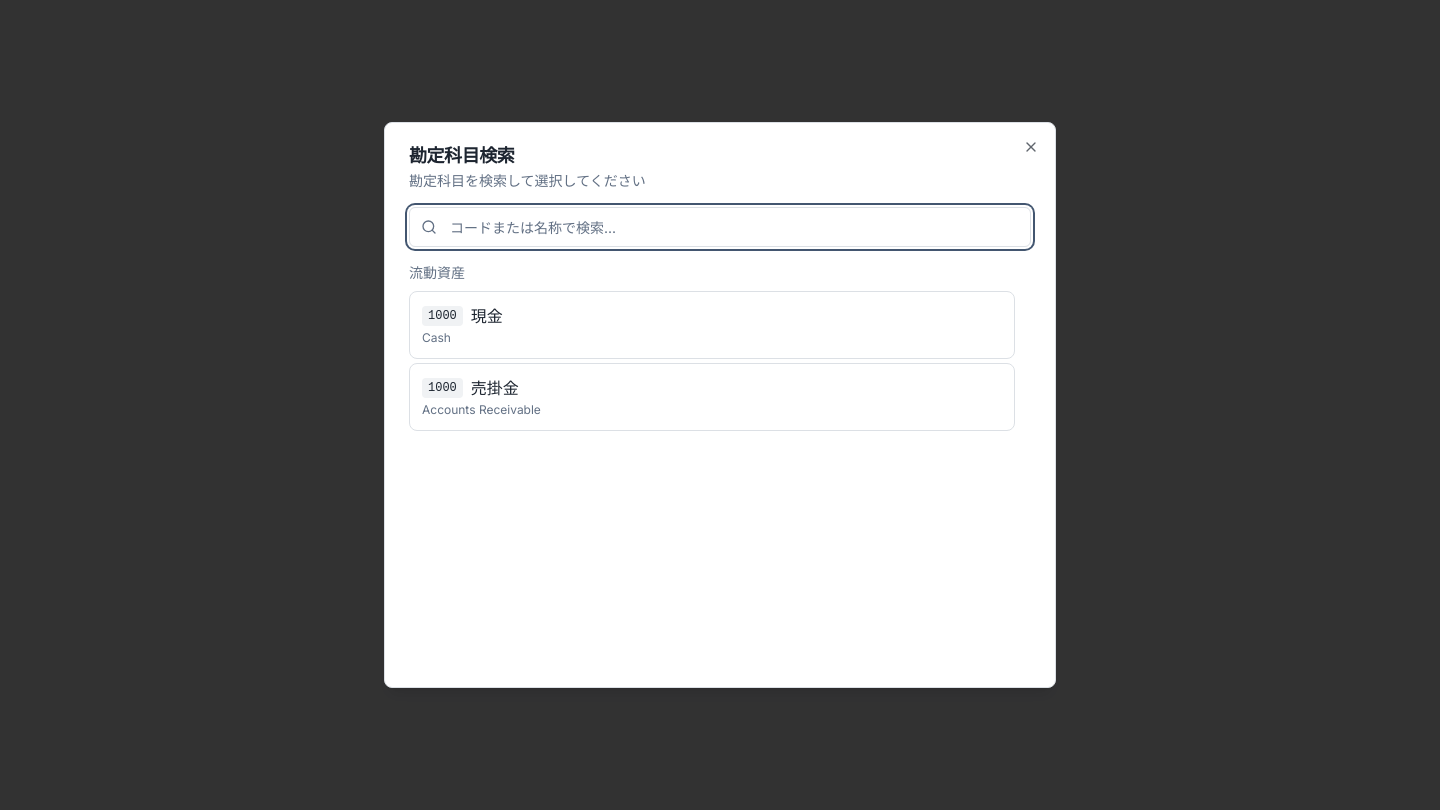
Test: conversion/account-search-dialog — search filtering › filters case-insensitively by English name
Type "receivable" into the field with placeholder "コードまたは名称で検索..." at (720, 227), box left=409, top=207, right=1031, bottom=247
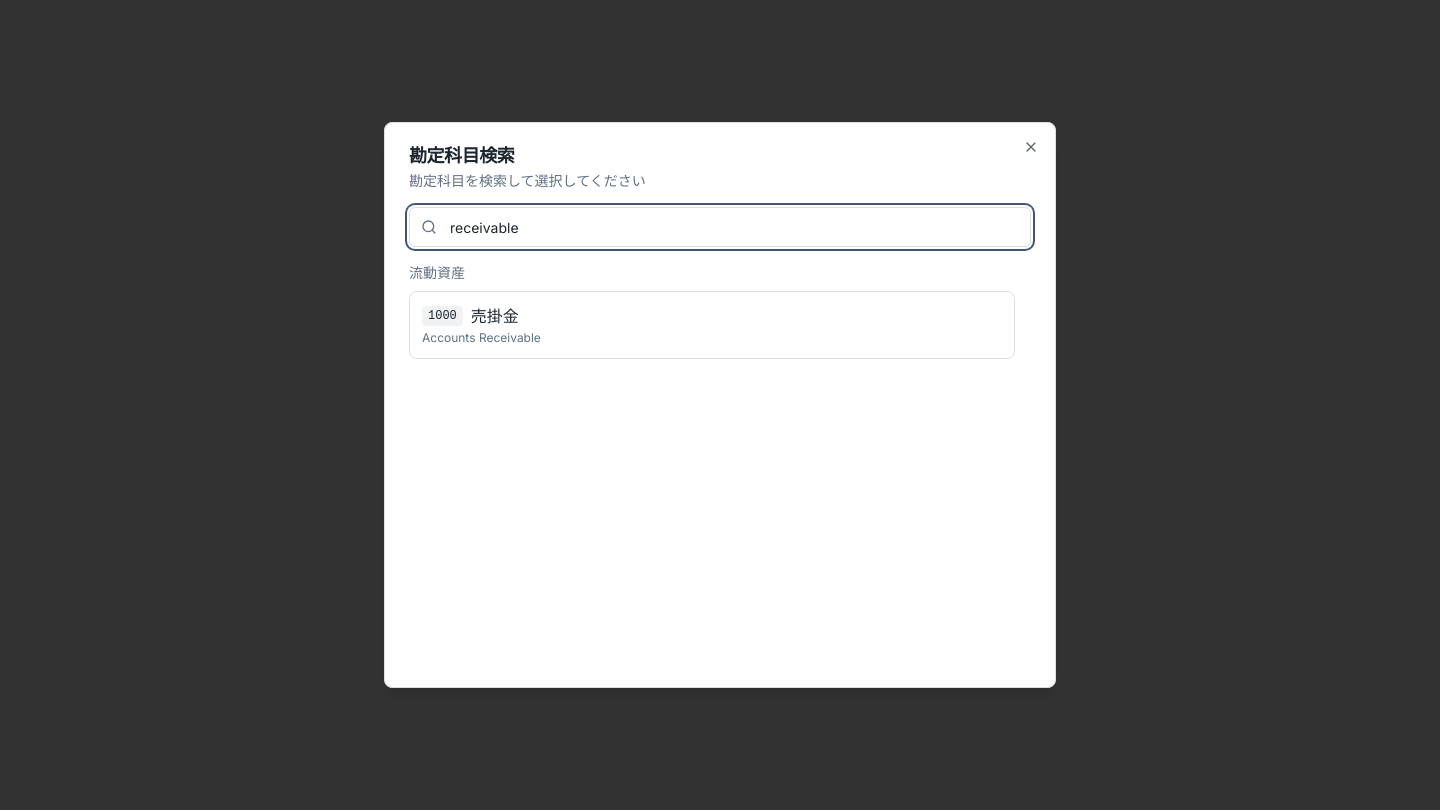
Expected: the text "売掛金" is shown, left=471, top=304, right=519, bottom=328
Expected: the button "現金" is gone
